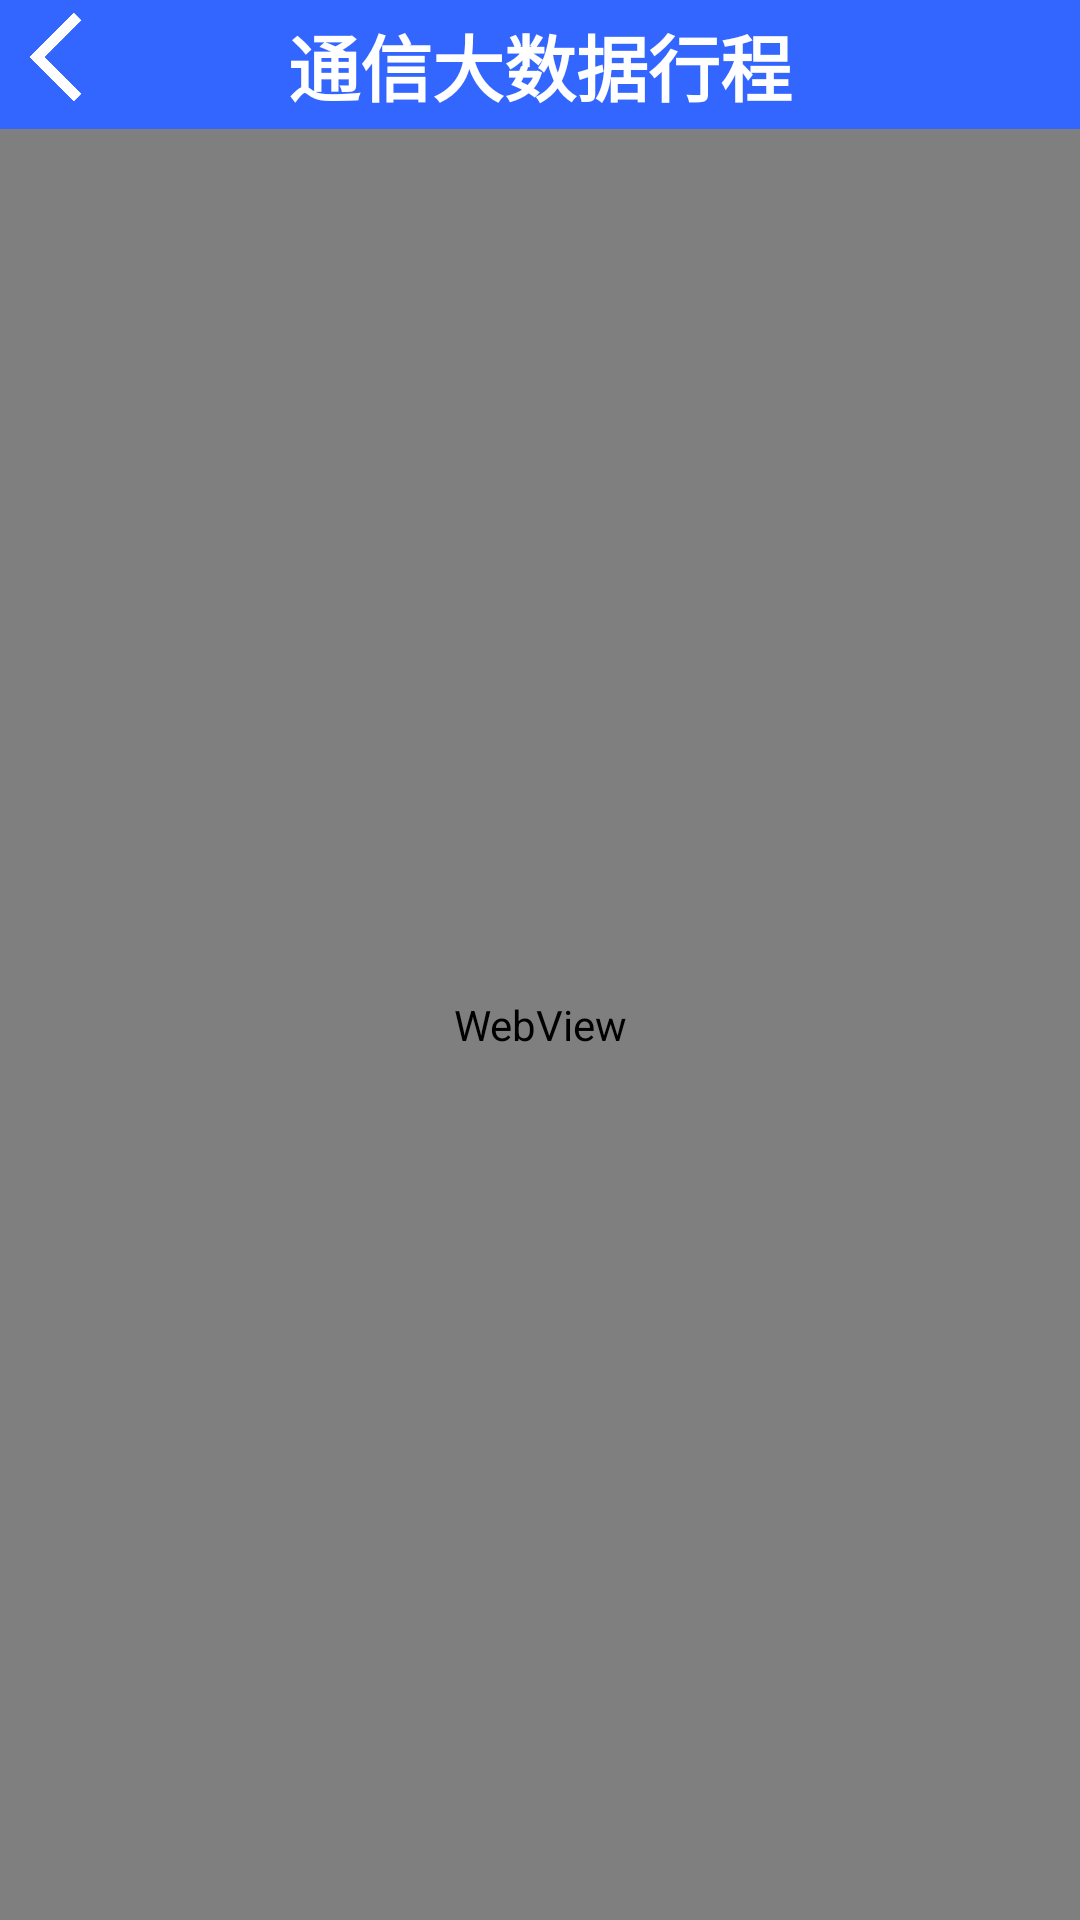

Named icons in this screenshot (1080w x 1920h) and their bounding boxes, [x1,y1,x2,y2]:
back: [30,13,82,101]
